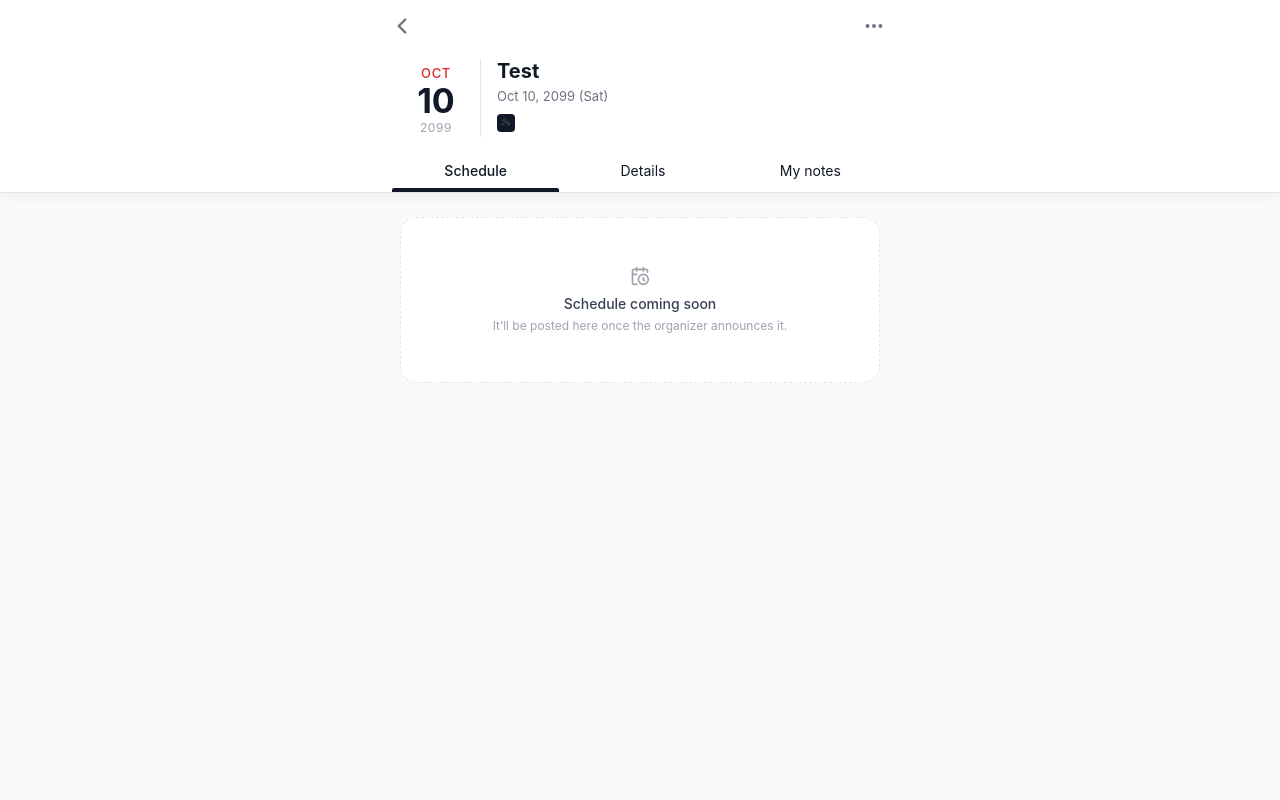
it: deleting an event from the header menu (#229, #216, #232) › shares the event’s own link, signed out too (#273)
Click the button named "More actions". click: (874, 26)
box: [856,8,892,44]
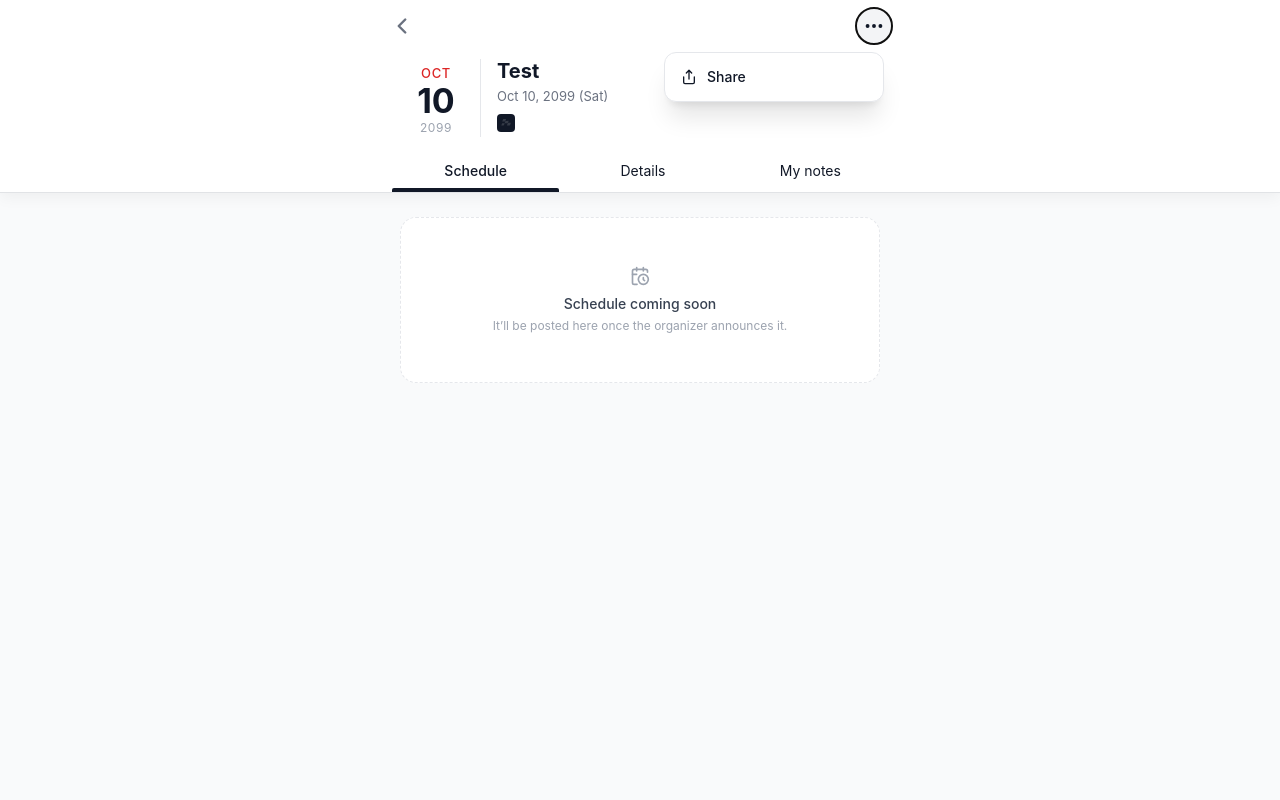
Click the menu item "Share". click: (774, 77)
box: [669,57,879,97]
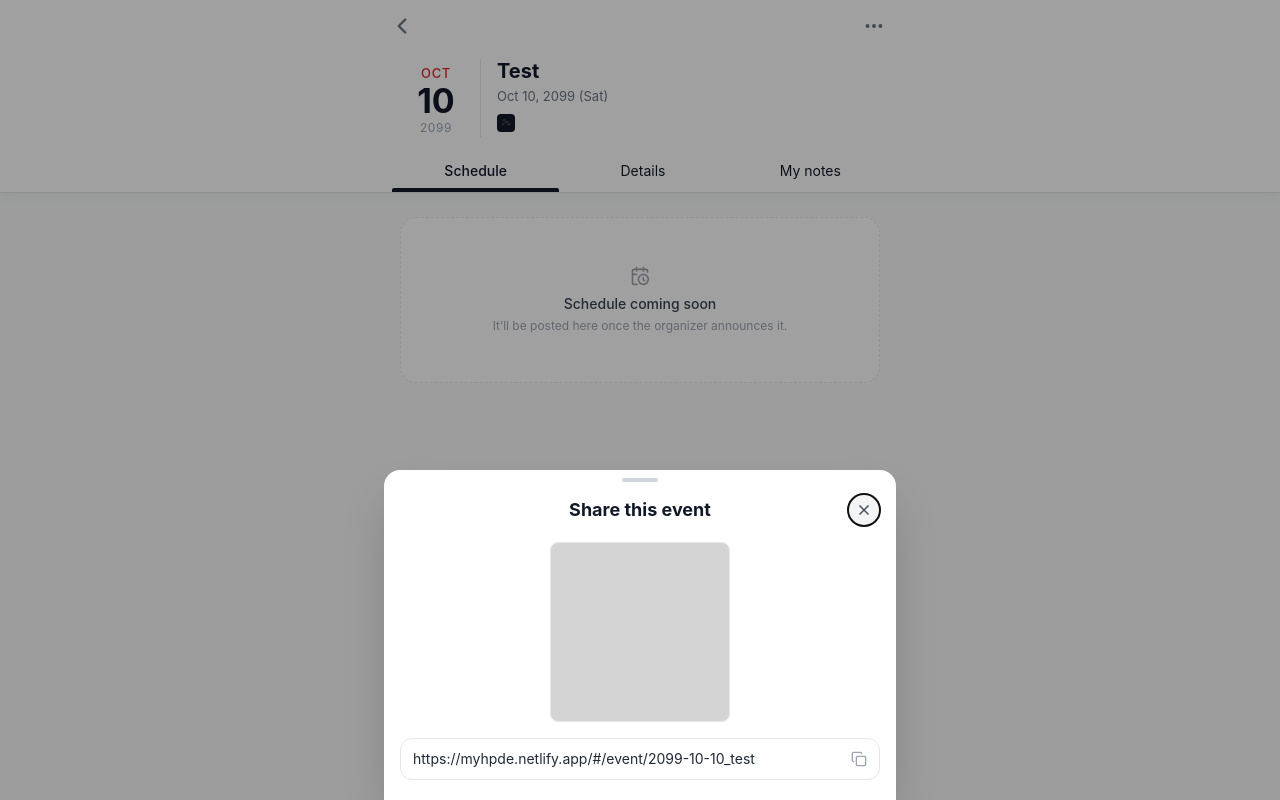
Expected: the heading "Test" is shown, [497,59,539,83]
Expected: the heading "Share this event" is shown, [569,499,711,520]
Click the button named "Close". click: (864, 510)
box: [848,494,880,526]
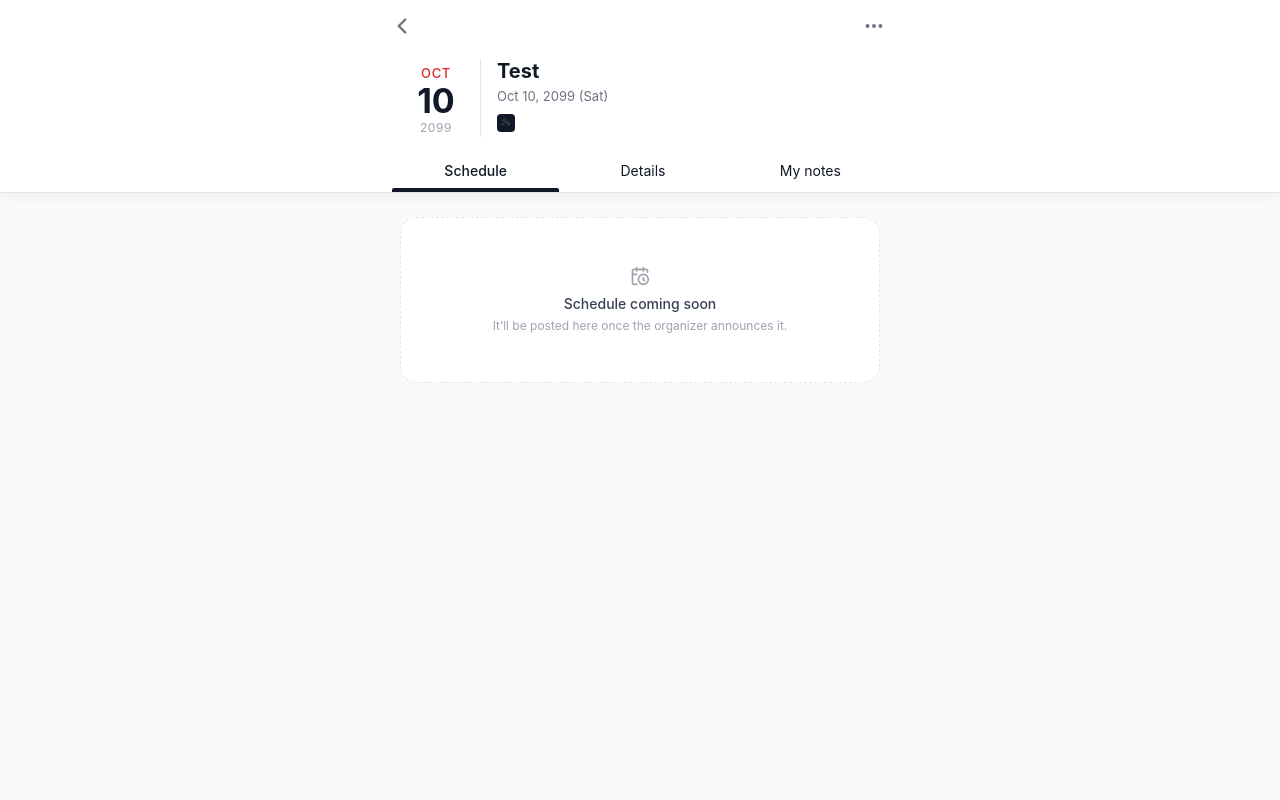
Expected: the heading "Share this event" is gone
